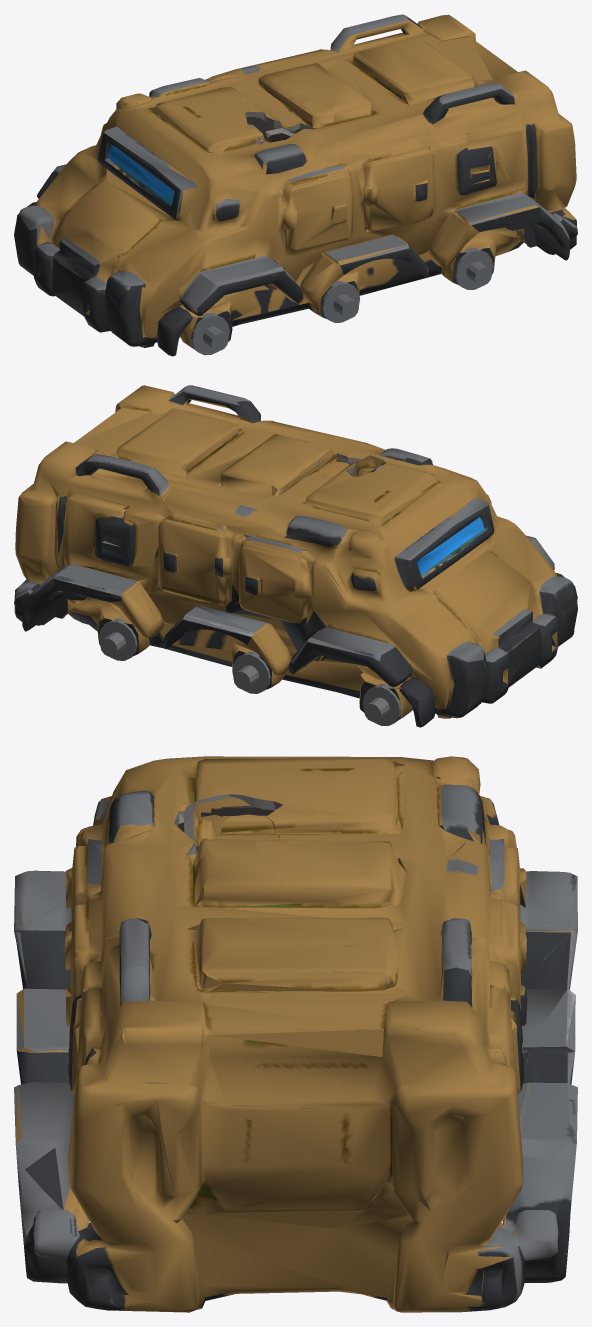
Rendered from OZ_APC_Wreck_V2.glb.
3 views of the same model, one above another, from view 1: azimuth 30°, elevation 25°; view 2: azimuth 150°, elevation 25°; view 3: azimuth 270°, elevation 25° (orthographic). The views are drawn at different scales.
Visible parts, largest first — view 1: APC_Body_Wreck_V2, APC_Plate_V2_d, APC_Plate_V2_a, APC_Plate_V2_c, APC_Plate_V2_b; view 2: APC_Body_Wreck_V2, APC_Plate_V2_d, APC_Plate_V2_c, APC_Plate_V2_a; view 3: APC_Body_Wreck_V2, APC_Plate_V2_b, APC_Plate_V2_a, APC_Plate_V2_d.
Boxes of the visible parts, bbox=[...] form: APC_Body_Wreck_V2: bbox=[14, 14, 577, 356]; APC_Plate_V2_d: bbox=[298, 97, 335, 129]; APC_Plate_V2_a: bbox=[264, 108, 302, 131]; APC_Plate_V2_c: bbox=[263, 94, 316, 113]; APC_Plate_V2_b: bbox=[242, 96, 275, 120]; APC_Body_Wreck_V2: bbox=[14, 385, 577, 727]; APC_Plate_V2_d: bbox=[295, 442, 336, 463]; APC_Plate_V2_c: bbox=[295, 453, 324, 487]; APC_Plate_V2_a: bbox=[317, 459, 355, 477]; APC_Body_Wreck_V2: bbox=[14, 756, 577, 1312]; APC_Plate_V2_b: bbox=[266, 805, 343, 840]; APC_Plate_V2_a: bbox=[215, 814, 280, 839]; APC_Plate_V2_d: bbox=[182, 839, 259, 872].
Bounding box in the file's own units: 1.9 × 0.8045 × 1.19.
Materials: 3 (1 with a texture image).
